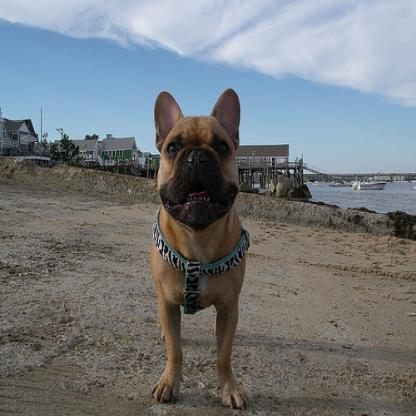French_bulldog: (149, 87, 250, 412)
